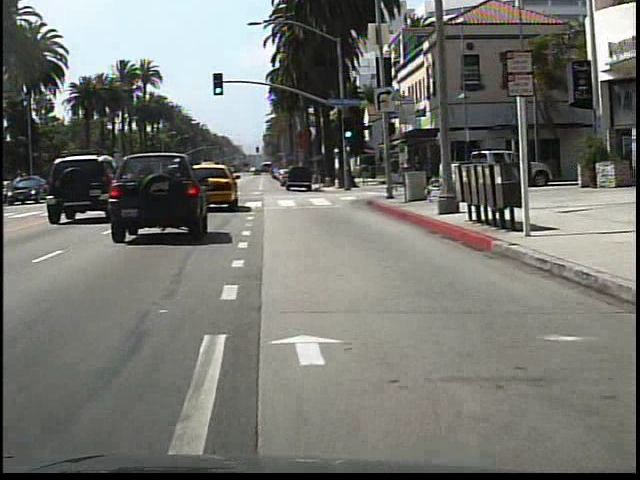person: (392, 151, 404, 194)
